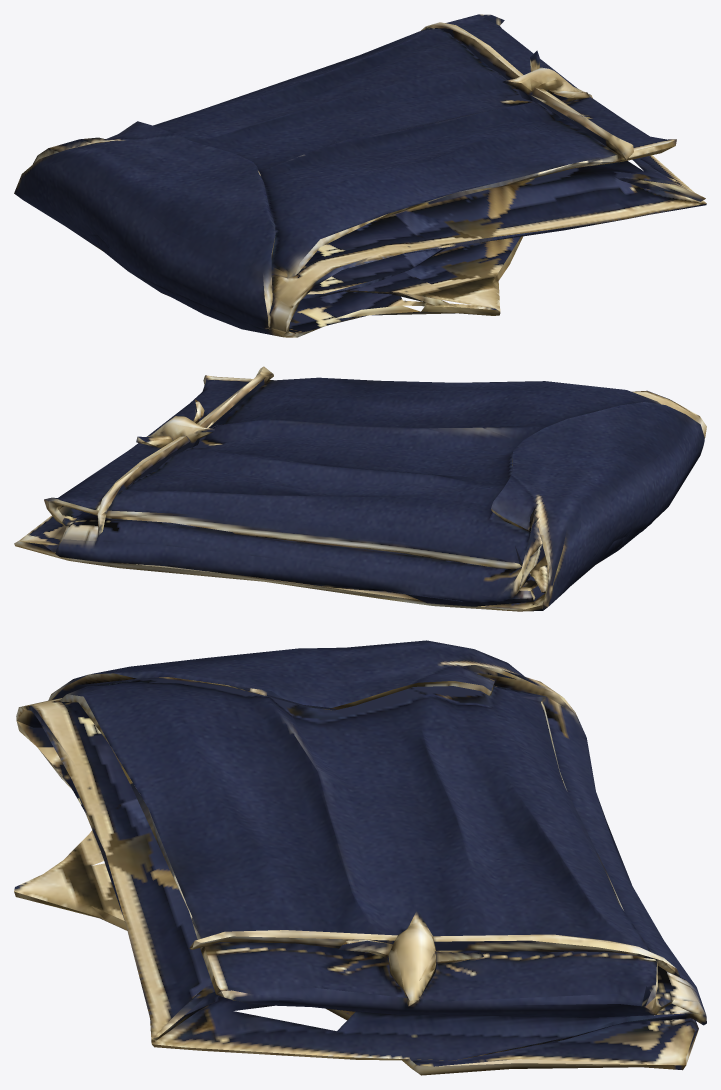
File: item_6cape6.glb
The picture shows the model from 3 angles, top to bottom: view 1: azimuth 30°, elevation 25°; view 2: azimuth 150°, elevation 25°; view 3: azimuth 270°, elevation 25°; orthographic projection. The views are drawn at different scales.
Visible parts, largest first — view 1: equipment_6cape6; view 2: equipment_6cape6; view 3: equipment_6cape6.
Boxes of the visible parts, x1,y1,x2,y2 form: equipment_6cape6: (14, 14, 706, 337); equipment_6cape6: (14, 366, 706, 611); equipment_6cape6: (14, 640, 706, 1075).
Size of the model in its own units: 1 by 0.1965 by 0.9037.
Materials: 1 (1 with a texture image).
